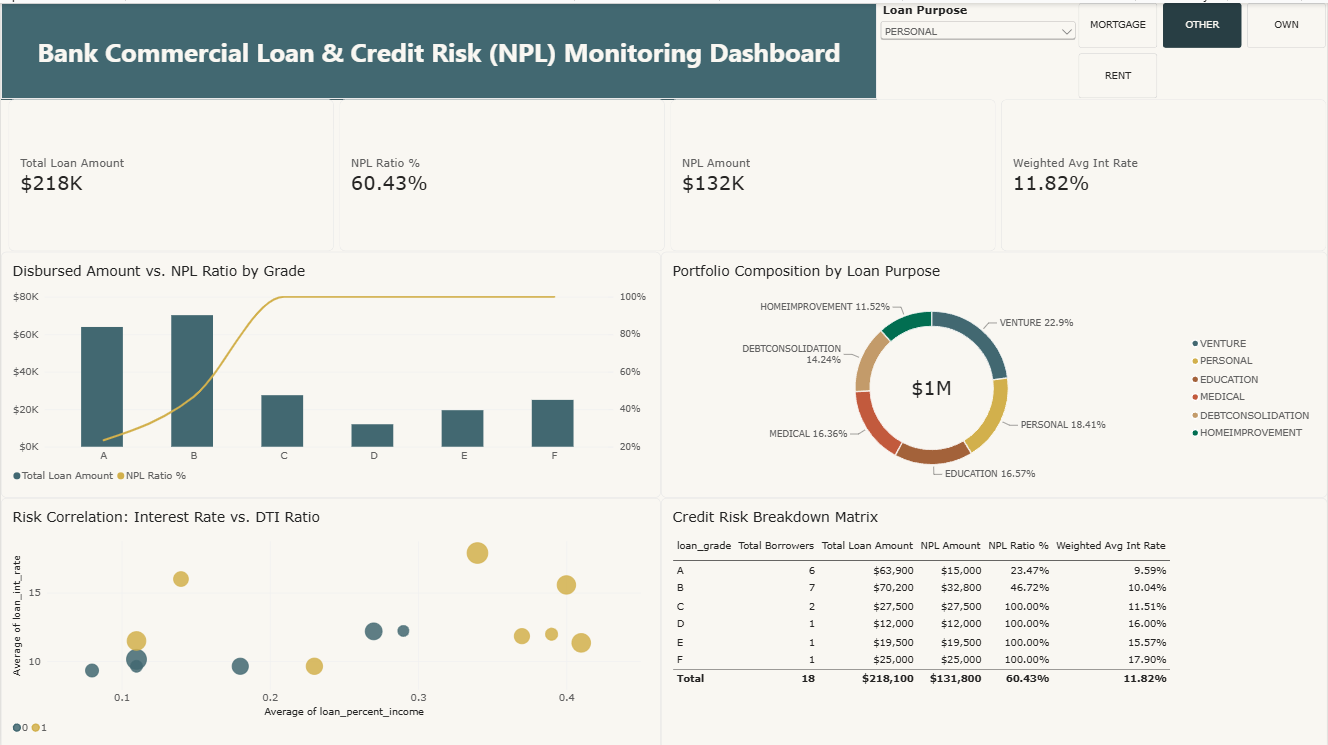

The page's visual inventory and layout, read from the dashboard file:
{"tool":"powerbi","page":{"name":"Page 1","canvas":[1920,1080],"ordinal":0},"visuals":[{"type":"shape","title":"sss","box":[0,0,1268,140],"z":0},{"type":"cardVisual","fields":{"Data":["_Measures.Total Loan Amount","_Measures.NPL Ratio %","_Measures.NPL Amount","_Measures.Weighted Avg Int Rate"]},"box":[10.3,140,1910.1,220.2],"z":1000},{"type":"lineClusteredColumnComboChart","title":"Disbursed Amount vs. NPL Ratio by Grade","fields":{"Category":["credit_risk_dataset.loan_grade"],"Y":["_Measures.Total Loan Amount"],"Y2":["_Measures.NPL Ratio %"]},"box":[0,360.2,955.1,356.1],"z":2000},{"type":"scatterChart","title":"Risk Correlation: Interest Rate vs. DTI Ratio","fields":{"X":["Avg(credit_risk_dataset.loan_percent_income)"],"Y":["Avg(credit_risk_dataset.loan_int_rate)"],"Series":["credit_risk_dataset.loan_status"],"Size":["Sum(credit_risk_dataset.loan_amnt)"],"Category":["credit_risk_dataset.person_income"]},"box":[0,716.3,955.1,364.3],"z":3000},{"type":"tableEx","title":"Credit Risk Breakdown Matrix","fields":{"Values":["credit_risk_dataset.loan_grade","_Measures.Total Borrowers","_Measures.Total Loan Amount","_Measures.NPL Amount","_Measures.NPL Ratio %","_Measures.Weighted Avg Int Rate"]},"box":[955,716,965,364],"z":4000},{"type":"slicer","fields":{"Values":["credit_risk_dataset.loan_intent"]},"box":[1267.9,0,292.3,140],"z":5000},{"type":"advancedSlicerVisual","fields":{"Values":["credit_risk_dataset.person_home_ownership"]},"box":[1560.2,0,360.2,140],"z":6000},{"type":"donutChart","title":"Portfolio Composition by Loan Purpose","fields":{"Y":["_Measures.Total Loan Amount"],"Category":["credit_risk_dataset.loan_intent"]},"box":[955,360,965,356],"z":7000}]}

Visuals, with their boxes in screenshot pixels (x1, y1, x2, y2), scaled from the page's 1920x1080 canvas onto the 1328x745 screenshot:
"sss" shape: crop(0, 0, 877, 97)
cardVisual - _Measures.Total Loan Amount x _Measures.NPL Ratio %: crop(7, 97, 1327, 248)
"Disbursed Amount vs. NPL Ratio by Grade" lineClusteredColumnComboChart: crop(0, 248, 661, 494)
"Risk Correlation: Interest Rate vs. DTI Ratio" scatterChart: crop(0, 494, 661, 744)
"Credit Risk Breakdown Matrix" tableEx: crop(661, 494, 1327, 744)
slicer - credit_risk_dataset.loan_intent: crop(877, 0, 1079, 97)
advancedSlicerVisual - credit_risk_dataset.person_home_ownership: crop(1079, 0, 1327, 97)
"Portfolio Composition by Loan Purpose" donutChart: crop(661, 248, 1327, 494)
